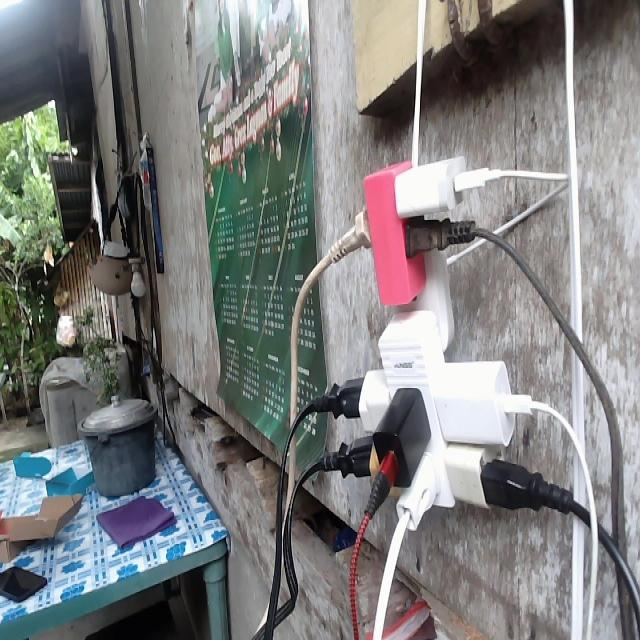-: (334, 159, 538, 521)
